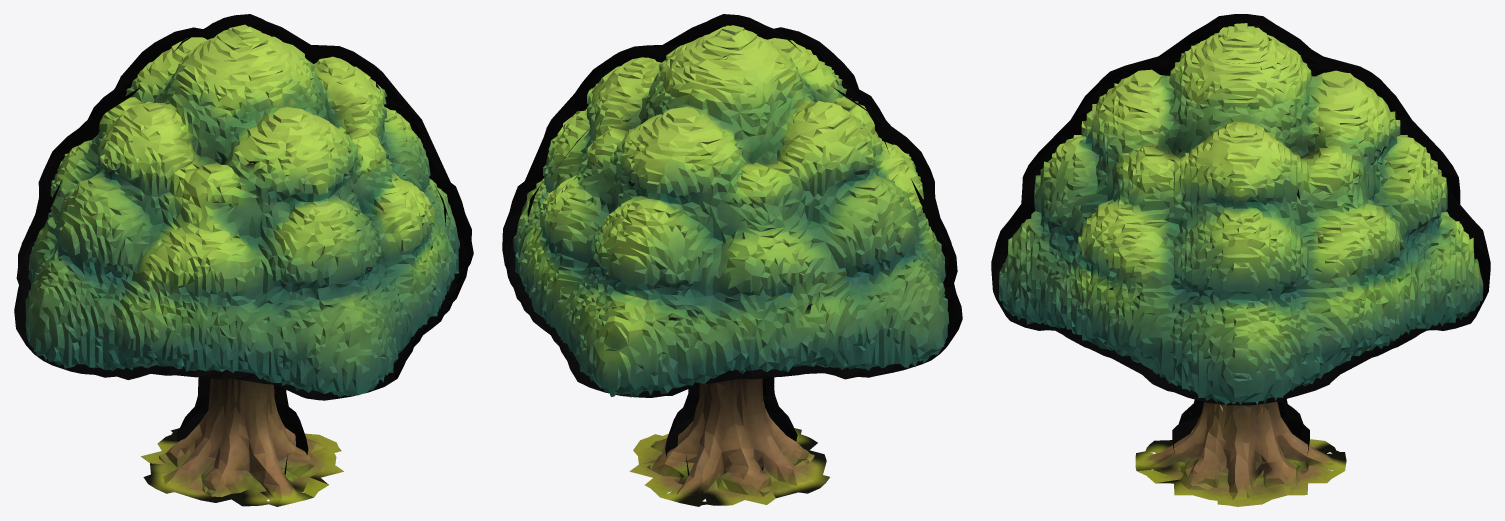
The model's file is Ghibli_Tree_H2.glb.
The picture shows the model from 3 angles, left to right: view 1: azimuth 30°, elevation 25°; view 2: azimuth 150°, elevation 25°; view 3: azimuth 270°, elevation 25°; orthographic projection.
Visible parts, largest first — view 1: TreeH2, TreeH2_OutlineHull; view 2: TreeH2, TreeH2_OutlineHull; view 3: TreeH2, TreeH2_OutlineHull.
Boxes of the visible parts, box(x1,y1,x2,y2) form: TreeH2: box(25, 24, 459, 506); TreeH2_OutlineHull: box(14, 14, 473, 474); TreeH2: box(513, 25, 949, 506); TreeH2_OutlineHull: box(502, 14, 962, 475); TreeH2: box(999, 23, 1483, 506); TreeH2_OutlineHull: box(991, 14, 1490, 455).
Size of the model in its own units: 1.96 by 1.98 by 1.96.
Materials: 2 (1 with a texture image).
